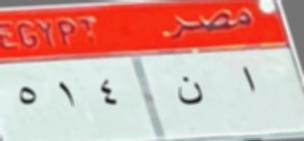1: (56, 76, 78, 112)
4: (97, 76, 119, 109)
5: (14, 79, 38, 114)
alif: (234, 58, 264, 106)
noon: (175, 72, 205, 110)
